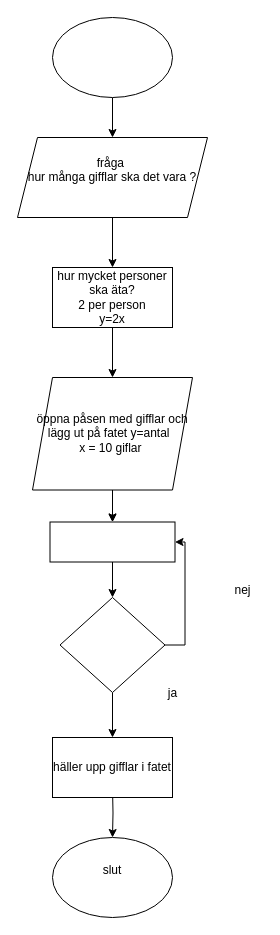
This 280x935 diagram has some shape labels left out. Each missing label, with the centre of its shape:
"avläsning 10 gifflar i paket" goes at point (112, 541).
"har alla x fått 2 gifflar?" goes at point (112, 644).
"start" goes at point (112, 57).
